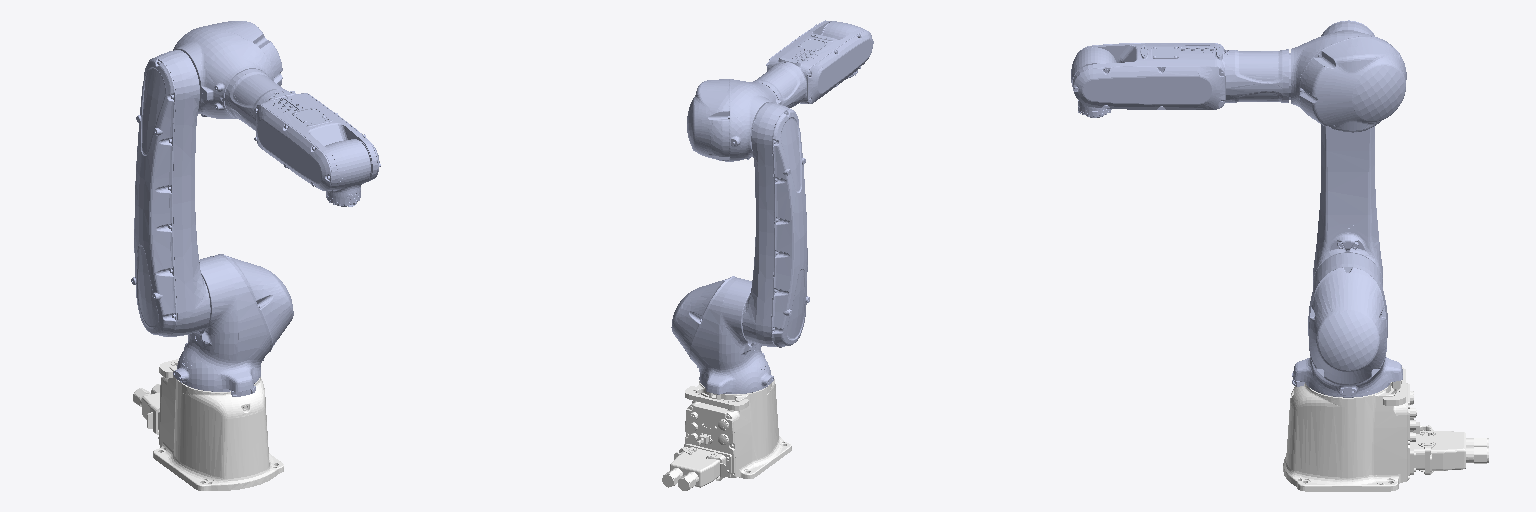
robot.urdf — RS007L:
<?xml version="1.0" encoding="utf-8"?>
<!-- This URDF was automatically created by SolidWorks to URDF Exporter! Originally created by [author] ([email redacted]) 
     Commit Version: 1.5.1-0-g916b5db  Build Version: 1.5.7152.31018
     For more information, please see http://wiki.ros.org/sw_urdf_exporter -->
<robot
  name="RS007L">
  <link
    name="base_link">
    <inertial>
      <origin
        xyz="-1.1629E-05 0.08067 -0.019136"
        rpy="0 0 0" />
      <mass
        value="6.1164" />
      <inertia
        ixx="0.035408"
        ixy="-4.1022E-06"
        ixz="-2.9467E-06"
        iyy="0.030387"
        iyz="0.00014264"
        izz="0.02577" />
    </inertial>
    <visual>
      <origin
        xyz="0 0 0"
        rpy="0 0 0" />
      <geometry>
        <mesh
          filename="package://RS007L/meshes/base_link.STL" />
      </geometry>
      <material
        name="">
        <color
          rgba="1 1 1 1" />
      </material>
    </visual>
    <collision>
      <origin
        xyz="0 0 0"
        rpy="0 0 0" />
      <geometry>
        <mesh
          filename="package://RS007L/meshes/base_link.STL" />
      </geometry>
    </collision>
  </link>
  <link
    name="Link1">
    <inertial>
      <origin
        xyz="-0.027174 0.11236 0.0034865"
        rpy="0 0 0" />
      <mass
        value="4.8537" />
      <inertia
        ixx="0.025492"
        ixy="0.00091485"
        ixz="0.00069934"
        iyy="0.019146"
        iyz="-0.00022261"
        izz="0.030382" />
    </inertial>
    <visual>
      <origin
        xyz="0 0 0"
        rpy="0 0 0" />
      <geometry>
        <mesh
          filename="package://RS007L/meshes/Link1.STL" />
      </geometry>
      <material
        name="">
        <color
          rgba="0.79216 0.81961 0.93333 1" />
      </material>
    </visual>
    <collision>
      <origin
        xyz="0 0 0"
        rpy="0 0 0" />
      <geometry>
        <mesh
          filename="package://RS007L/meshes/Link1.STL" />
      </geometry>
    </collision>
  </link>
  <joint
    name="Joint1"
    type="continuous">
    <origin
      xyz="-2.794E-05 0 0.179"
      rpy="1.5708 0 3.0073" />
    <parent
      link="base_link" />
    <child
      link="Link1" />
    <axis
      xyz="0 1 0" />
    <limit
      lower="-2.61"
      upper="2.611"
      effort="0"
      velocity="3.14" />
  </joint>
  <link
    name="Link2">
    <inertial>
      <origin
        xyz="0.127607693539033 0.144926939254686 0.118463370156828"
        rpy="0 0 0" />
      <mass
        value="4.9476285997593" />
      <inertia
        ixx="0.133200122029185"
        ixy="-0.00969656598937359"
        ixz="-0.00900016938913797"
        iyy="0.0660110086482258"
        iyz="-0.0621506069061316"
        izz="0.0768076253098735" />
    </inertial>
    <visual>
      <origin
        xyz="0 0 0"
        rpy="0 0 0" />
      <geometry>
        <mesh
          filename="package://RS007L/meshes/Link2.STL" />
      </geometry>
      <material
        name="">
        <color
          rgba="0.792156862745098 0.819607843137255 0.933333333333333 1" />
      </material>
    </visual>
    <collision>
      <origin
        xyz="0 0 0"
        rpy="0 0 0" />
      <geometry>
        <mesh
          filename="package://RS007L/meshes/Link2.STL" />
      </geometry>
    </collision>
  </link>
  <joint
    name="Joint2"
    type="continuous">
    <origin
      xyz="0 0.176 0"
      rpy="-0.74026 0.035434 0.091267" />
    <parent
      link="Link1" />
    <child
      link="Link2" />
    <axis
      xyz="0.99099 0 -0.13391" />
    <limit
      lower="-3.14"
      upper="3.14"
      effort="0"
      velocity="3.14" />
  </joint>
  <link
    name="Link3">
    <inertial>
      <origin
        xyz="-0.0123015577309536 -5.31219633427282E-05 -0.000560439462693751"
        rpy="0 0 0" />
      <mass
        value="4.16504441130818" />
      <inertia
        ixx="0.0176525790746935"
        ixy="-8.51666445657614E-06"
        ixz="-0.000308881796350384"
        iyy="0.0192836268456557"
        iyz="-9.40006216627861E-05"
        izz="0.0146219741244696" />
    </inertial>
    <visual>
      <origin
        xyz="0 0 0"
        rpy="0 0 0" />
      <geometry>
        <mesh
          filename="package://RS007L/meshes/Link3.STL" />
      </geometry>
      <material
        name="">
        <color
          rgba="0.792156862745098 0.819607843137255 0.933333333333333 1" />
      </material>
    </visual>
    <collision>
      <origin
        xyz="0 0 0"
        rpy="0 0 0" />
      <geometry>
        <mesh
          filename="package://RS007L/meshes/Link3.STL" />
      </geometry>
    </collision>
  </link>
  <joint
    name="Joint3"
    type="continuous">
    <origin
      xyz="0.041443 0.33353 0.3067"
      rpy="0.76009 0.037267 -0.093236" />
    <parent
      link="Link2" />
    <child
      link="Link3" />
    <axis
      xyz="0.99099 0 -0.13391" />
    <limit
      lower="-3.14"
      upper="3.14"
      effort="0"
      velocity="3.14" />
  </joint>
  <link
    name="Link4">
    <inertial>
      <origin
        xyz="-0.0276467549054993 -0.00414609400595412 -0.202983065391109"
        rpy="0 0 0" />
      <mass
        value="3.44112530754369" />
      <inertia
        ixx="0.0364964372490866"
        ixy="-0.000326647678246149"
        ixz="-0.00421173893188718"
        iyy="0.0387894739815016"
        iyz="-0.000635069348109378"
        izz="0.00684718733540645" />
    </inertial>
    <visual>
      <origin
        xyz="0 0 0"
        rpy="0 0 0" />
      <geometry>
        <mesh
          filename="package://RS007L/meshes/Link4.STL" />
      </geometry>
      <material
        name="">
        <color
          rgba="0.792156862745098 0.819607843137255 0.933333333333333 1" />
      </material>
    </visual>
    <collision>
      <origin
        xyz="0 0 0"
        rpy="0 0 0" />
      <geometry>
        <mesh
          filename="package://RS007L/meshes/Link4.STL" />
      </geometry>
    </collision>
  </link>
  <joint
    name="Joint4"
    type="continuous">
    <origin
      xyz="-0.012582 -0.0018868 -0.093114"
      rpy="-0.01775 -0.0038832 -0.13305" />
    <parent
      link="Link3" />
    <child
      link="Link4" />
    <axis
      xyz="0.13388 0.020077 0.99079" />
    <limit
      lower="-3.14"
      upper="3.14"
      effort="0"
      velocity="3.14" />
  </joint>
  <link
    name="Link5">
    <inertial>
      <origin
        xyz="0.00275059411476475 -0.00755947925736533 -0.00543626919709683"
        rpy="0 0 0" />
      <mass
        value="0.526011083237211" />
      <inertia
        ixx="0.000681636861679462"
        ixy="1.02038378177922E-05"
        ixz="-2.0639953198217E-06"
        iyy="0.000503631652371019"
        iyz="-9.33334787873155E-05"
        izz="0.000586675680818536" />
    </inertial>
    <visual>
      <origin
        xyz="0 0 0"
        rpy="0 0 0" />
      <geometry>
        <mesh
          filename="package://RS007L/meshes/Link5.STL" />
      </geometry>
      <material
        name="">
        <color
          rgba="0.792156862745098 0.819607843137255 0.933333333333333 1" />
      </material>
    </visual>
    <collision>
      <origin
        xyz="0 0 0"
        rpy="0 0 0" />
      <geometry>
        <mesh
          filename="package://RS007L/meshes/Link5.STL" />
      </geometry>
    </collision>
  </link>
  <joint
    name="Joint5"
    type="continuous">
    <origin
      xyz="-0.051012 -0.0076495 -0.37751"
      rpy="-0.57599 -0.051801 0.096623" />
    <parent
      link="Link4" />
    <child
      link="Link5" />
    <axis
      xyz="0.98171 0.13388 -0.13537" />
    <limit
      lower="-3.14"
      upper="3.14"
      effort="0"
      velocity="3.14" />
  </joint>
  <link
    name="Link6">
    <inertial>
      <origin
        xyz="0.000980964303033544 -0.0210130519291087 -0.013661795454915"
        rpy="0 0 0" />
      <mass
        value="0.013445658899445" />
      <inertia
        ixx="1.69504462767819E-06"
        ixy="-4.12716890122397E-08"
        ixz="-2.73033968221091E-08"
        iyy="2.5955401583421E-06"
        iyz="5.89888031309182E-07"
        izz="2.07765796786472E-06" />
    </inertial>
    <visual>
      <origin
        xyz="0 0 0"
        rpy="0 0 0" />
      <geometry>
        <mesh
          filename="package://RS007L/meshes/Link6.STL" />
      </geometry>
      <material
        name="">
        <color
          rgba="0.792156862745098 0.819607843137255 0.933333333333333 1" />
      </material>
    </visual>
    <collision>
      <origin
        xyz="0 0 0"
        rpy="0 0 0" />
      <geometry>
        <mesh
          filename="package://RS007L/meshes/Link6.STL" />
      </geometry>
    </collision>
  </link>
  <joint
    name="Joint6"
    type="continuous">
    <origin
      xyz="0.0036479 -0.037857 -0.025022"
      rpy="1.988 0.16496 3.1276" />
    <parent
      link="Link5" />
    <child
      link="Link6" />
    <axis
      xyz="0.039192 -0.83787 -0.54445" />
    <limit
      lower="-6.28"
      upper="6.28"
      effort="0"
      velocity="6.28" />
  </joint>
</robot>

--- Facts derived from the render (not from the file) ---
3 views of the same robot in one strip: view 1: azimuth 30°, elevation 25°; view 2: azimuth 150°, elevation 25°; view 3: azimuth 270°, elevation 25° (orthographic).
Robot: RS007L — 7 links, 6 joints (6 continuous); root link base_link; default pose: every joint at zero.
Links seen in each view (by area): view 1: Link2, base_link, Link1, Link4, Link3, Link5; view 2: Link2, base_link, Link1, Link4, Link3; view 3: base_link, Link4, Link1, Link3, Link2, Link5.
Boxes of the visible links, x1,y1,x2,y2 form: Link2: [131, 50, 210, 336]; base_link: [133, 359, 283, 490]; Link1: [173, 254, 293, 396]; Link4: [224, 69, 380, 190]; Link3: [173, 21, 282, 118]; Link5: [325, 139, 370, 206]; Link2: [742, 102, 809, 347]; base_link: [662, 379, 791, 490]; Link1: [671, 276, 773, 394]; Link4: [753, 20, 873, 107]; Link3: [687, 79, 781, 161]; base_link: [1283, 367, 1488, 491]; Link4: [1072, 43, 1290, 109]; Link1: [1292, 253, 1402, 397]; Link3: [1291, 30, 1406, 132]; Link2: [1313, 20, 1382, 279]; Link5: [1071, 47, 1116, 116].
Bounding box of the posed robot: 0.318 × 0.7844 × 0.899 m (x, y, z).
Meshes: 7 distinct files referenced, 7 mesh visuals loaded (7 binary STL).